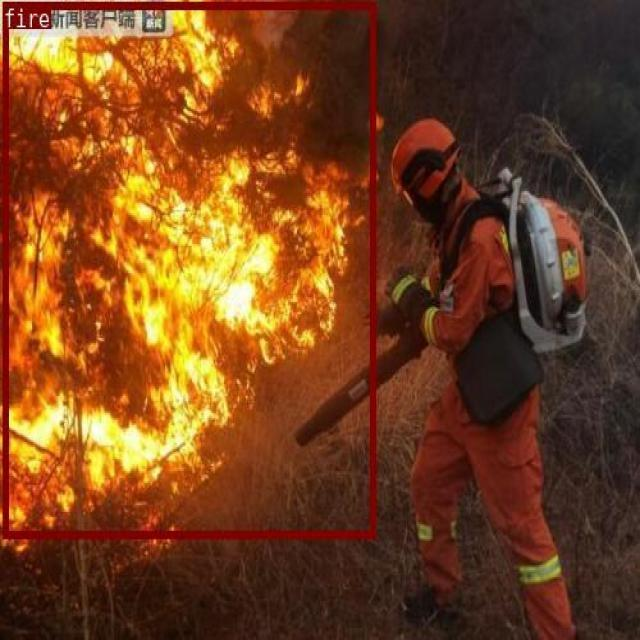fire: (1, 1, 375, 538)
